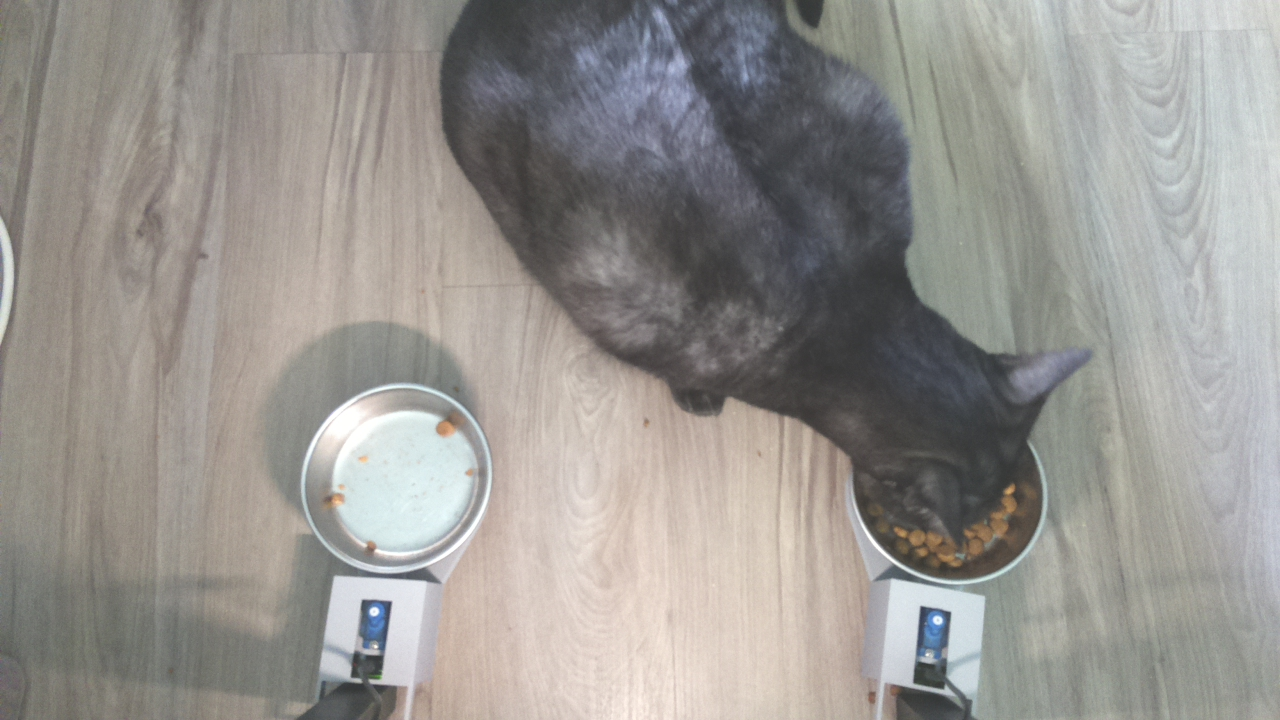open_bowl: (297, 383, 498, 582)
saki_eating: (827, 321, 1104, 593)
